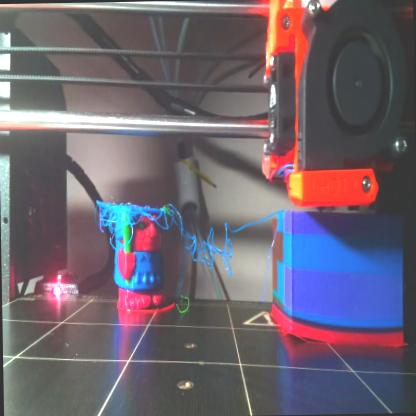fail: (164, 204, 269, 283), (97, 197, 144, 239)
